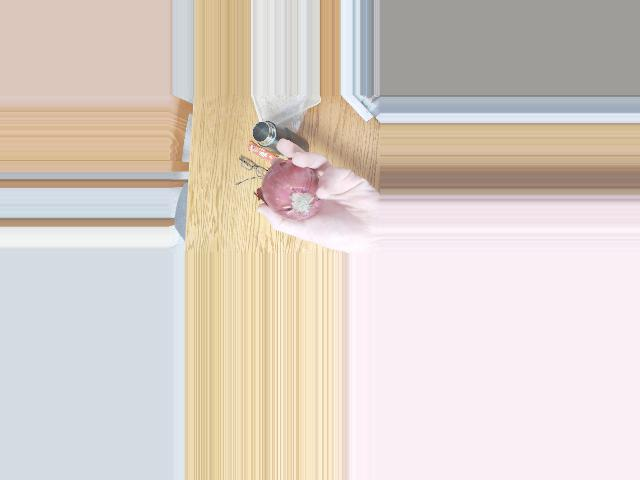onion: (268, 164, 321, 221)
